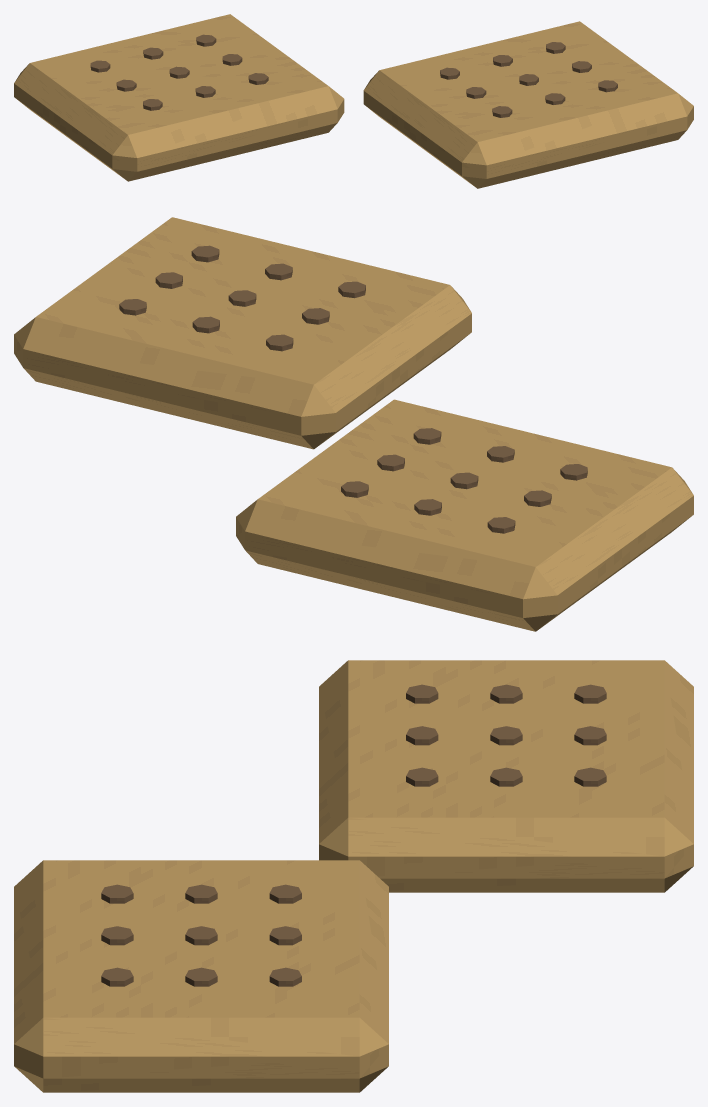
File: hardtack.glb
The picture shows the model from 3 angles, top to bottom: view 1: azimuth 30°, elevation 25°; view 2: azimuth 150°, elevation 25°; view 3: azimuth 270°, elevation 25°; orthographic projection. The views are drawn at different scales.
Parts seen in each view (by area): view 1: block_hard biscuit (×2); view 2: block_hard biscuit (×2); view 3: block_hard biscuit (×2).
Boxes of the visible parts, x1=… form: block_hard biscuit (×2): x1=14, y1=14, x2=693, y2=188; block_hard biscuit (×2): x1=14, y1=217, x2=693, y2=631; block_hard biscuit (×2): x1=14, y1=660, x2=693, y2=1092.
Size of the model in its own units: 0.0783 by 0.00773 by 0.0589.
1 material, 1 textured.
